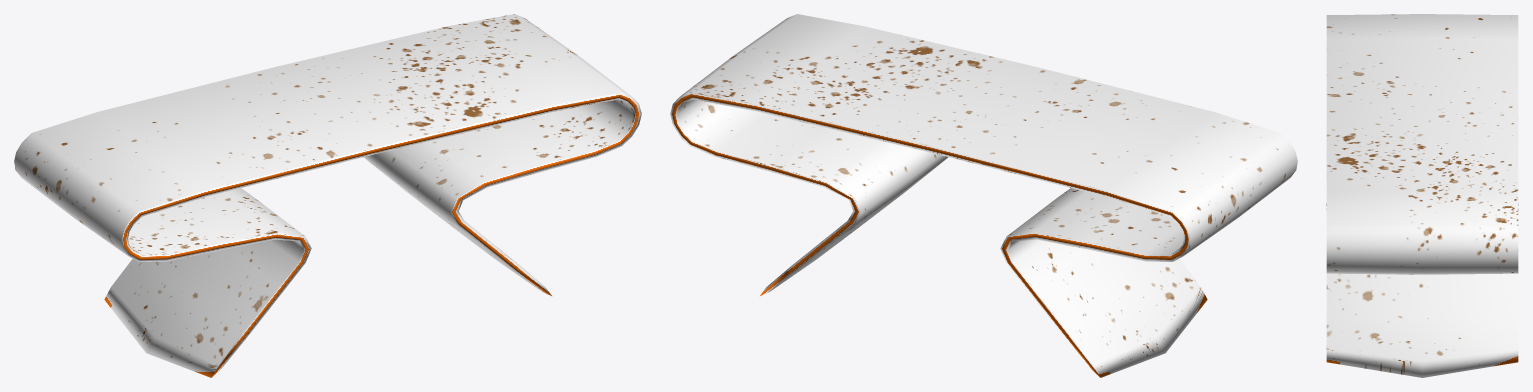
Rendered from Futurisitic Table.FBX.
The picture shows the model from 3 angles, left to right: view 1: azimuth 30°, elevation 25°; view 2: azimuth 150°, elevation 25°; view 3: azimuth 270°, elevation 25°; orthographic projection. The views are drawn at different scales.
Visible parts, largest first — view 1: Line001; view 2: Line001; view 3: Line001.
Part boxes in pixels (<box>): Line001: <box>14,14,641,377</box>; Line001: <box>670,14,1297,377</box>; Line001: <box>1326,14,1518,377</box>.
Size of the model in its own units: 292 by 110 by 104.
